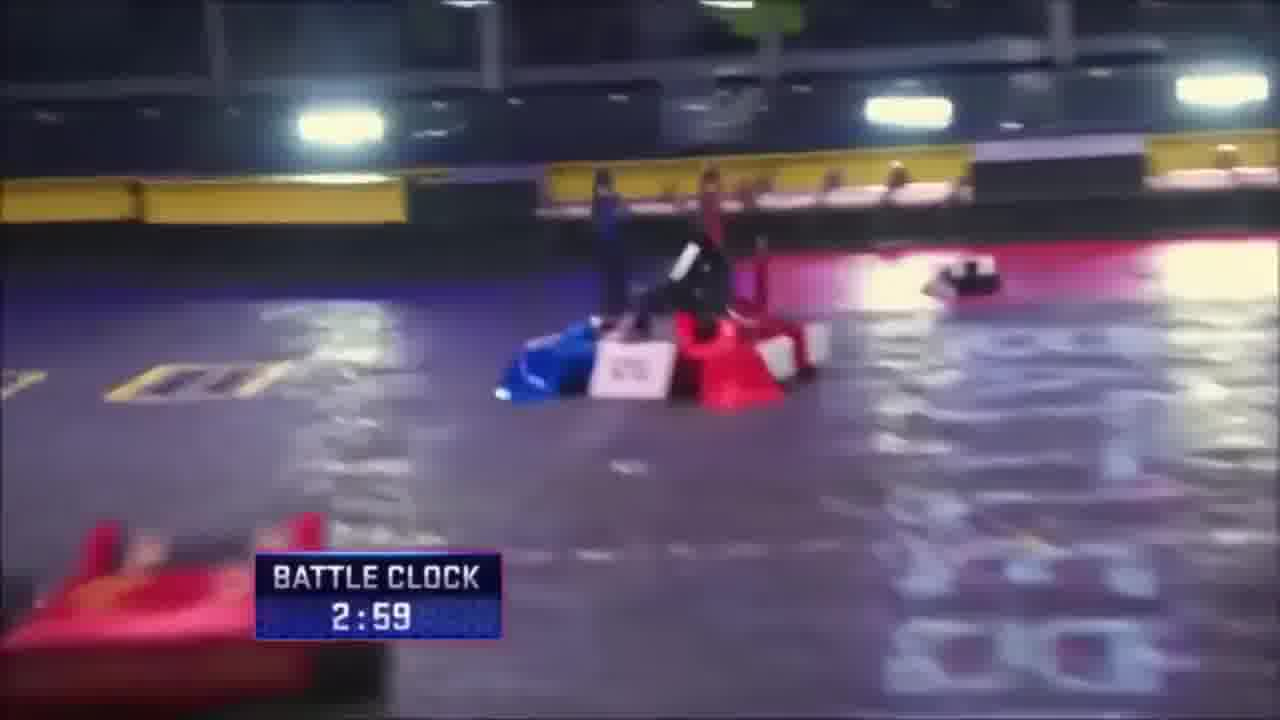combatbot: (0, 512, 402, 720), (491, 296, 837, 412)
minibot: (921, 249, 1013, 308)
